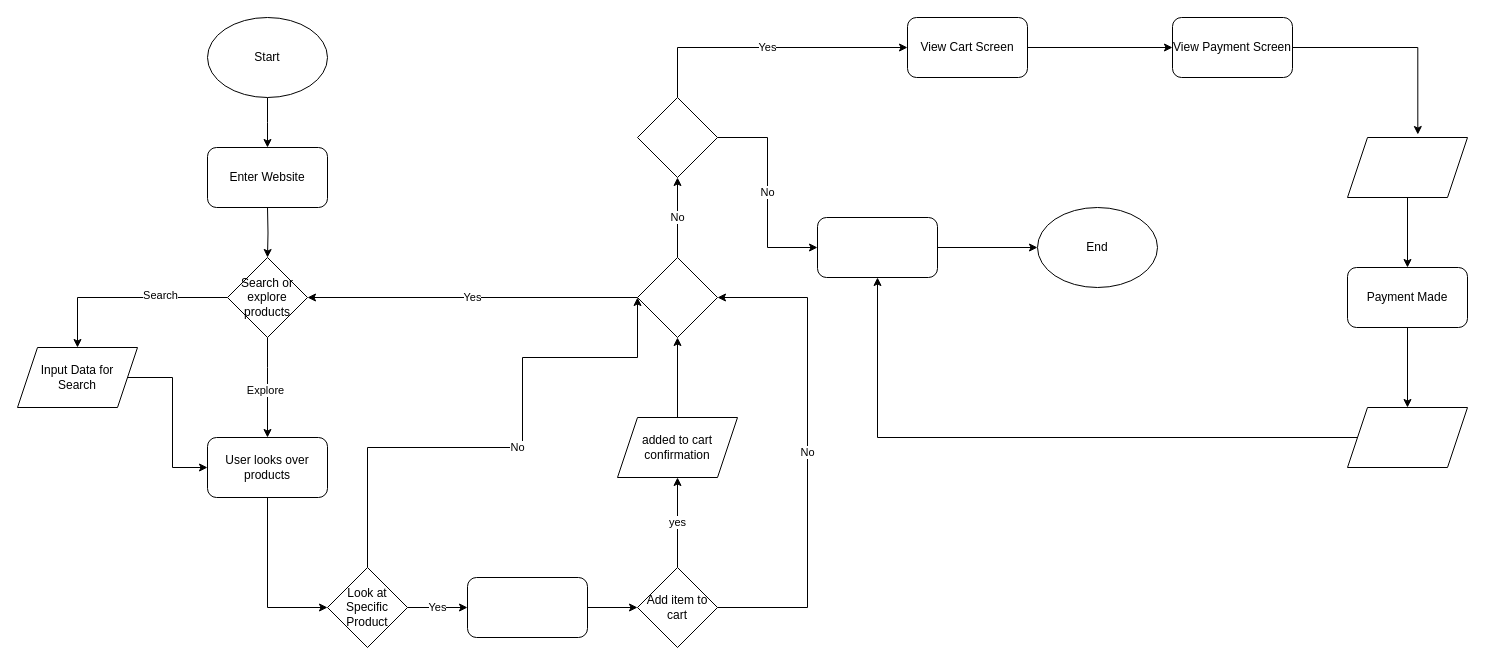
The diagram is 1485 pixels wide and 665 high, and some of its shapes have lost their labels. Each missing label, with the centre of its shape:
Checkout?: the point at 677,137
Continue Shopping?: the point at 677,297
Give Payment info: the point at 1407,167
Leave Website: the point at 877,247
Product Webpage Opens: the point at 527,607
Receive order confirmation and email: the point at 1407,437
